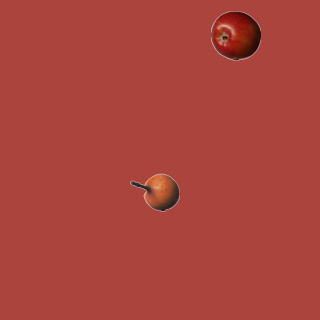Apple Braeburn: (210, 10, 260, 60)
Granadilla: (129, 167, 179, 217)
